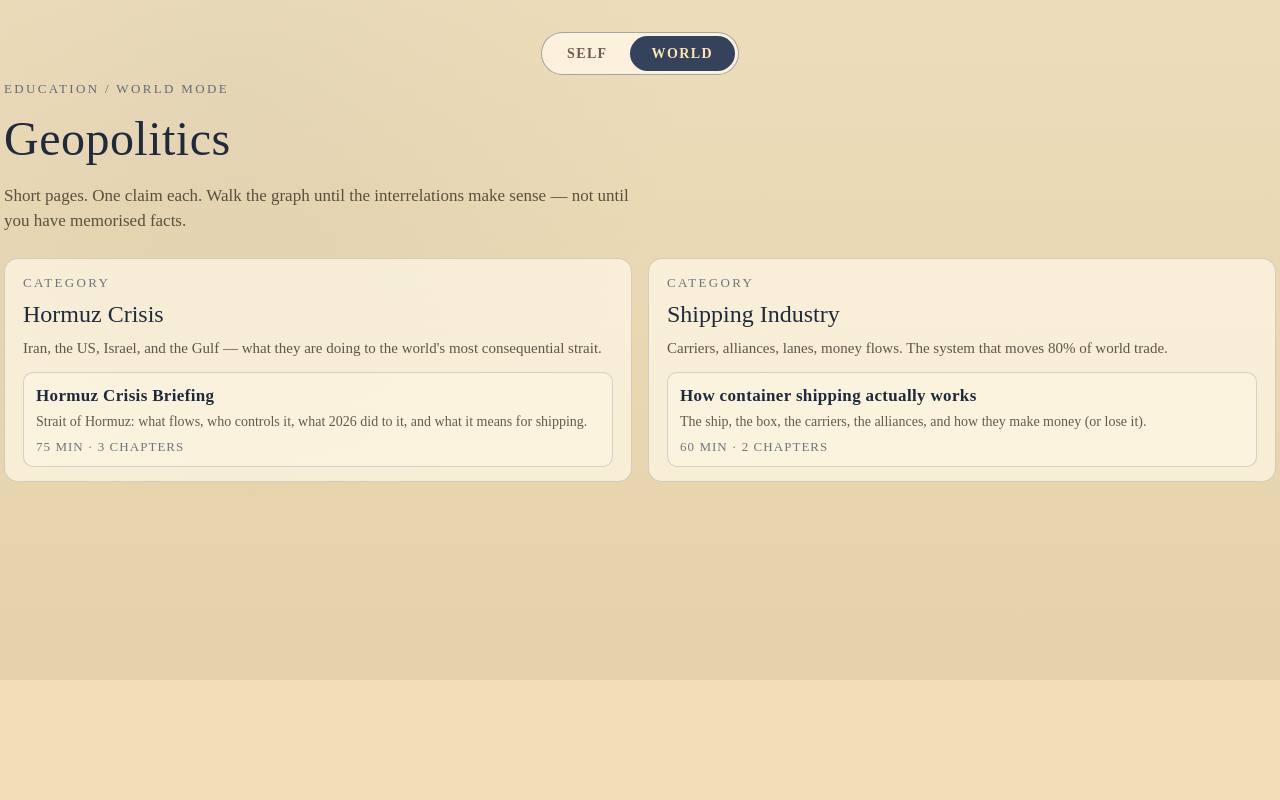
Test: GeopoliticsWorld › back-to-hub button returns to the category grid
What coordinates should you click on to do the following:
click the button with test id "open-program-hormuz-briefing"
I would click on:
 (318, 419)
Its box is [23,372,613,467].
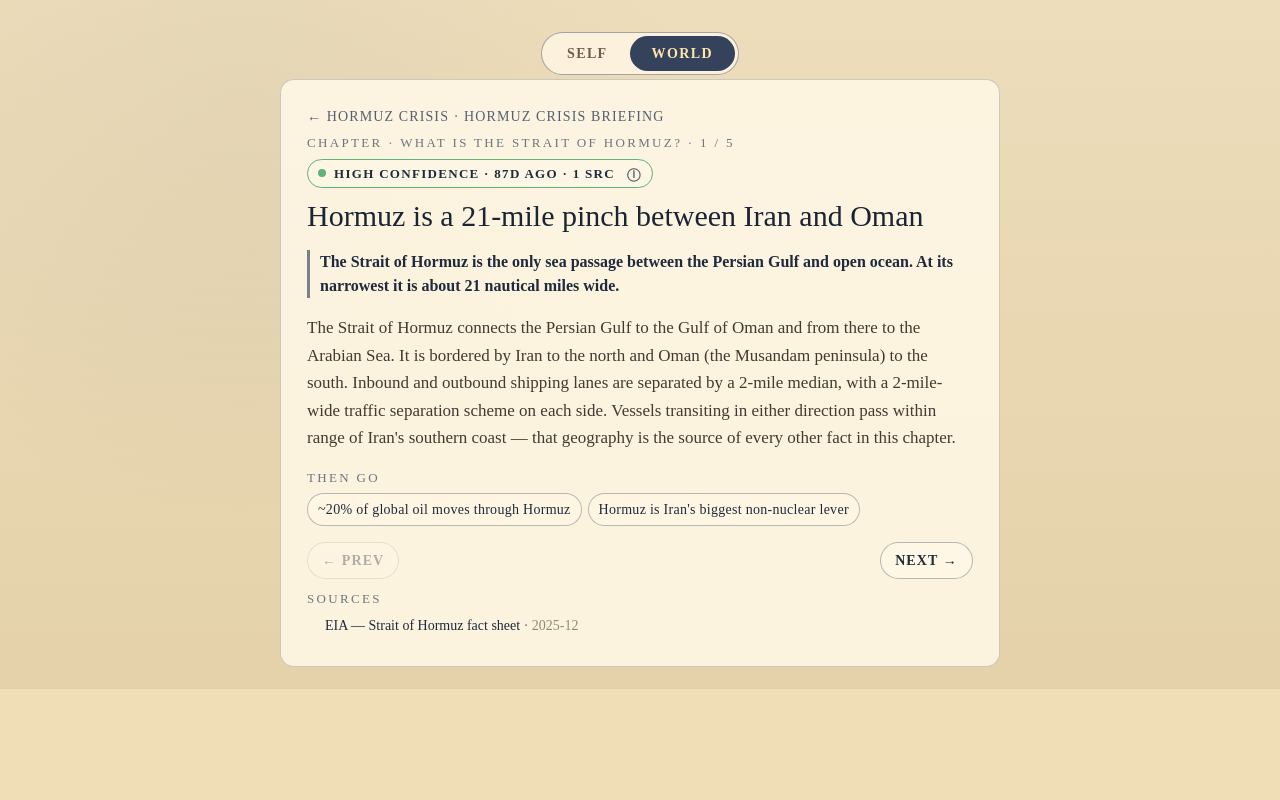
What coordinates should you click on to do the following:
click the button with test id "back-to-hub"
I would click on:
 (486, 116)
Its box is [307,106,664,127].
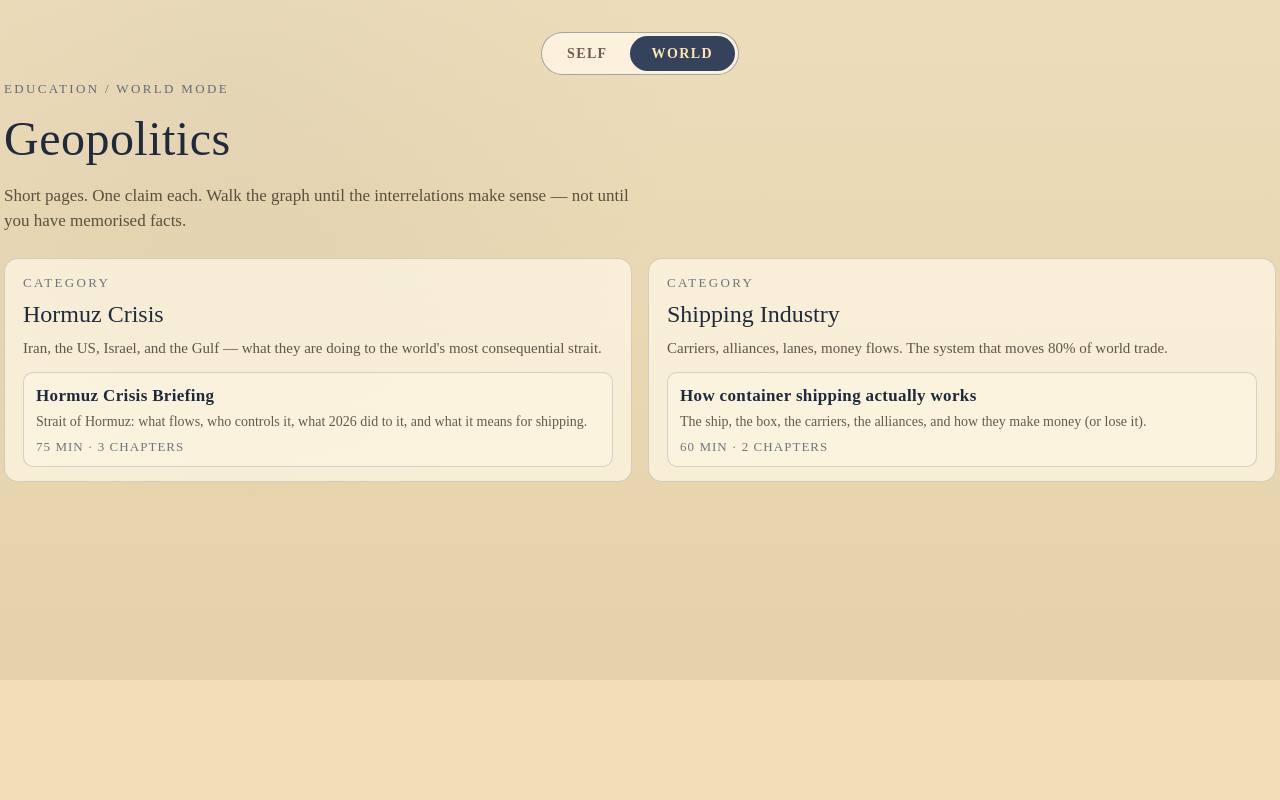
Expected: the element with test id "world-hub" is shown, [4,79,1276,482]
